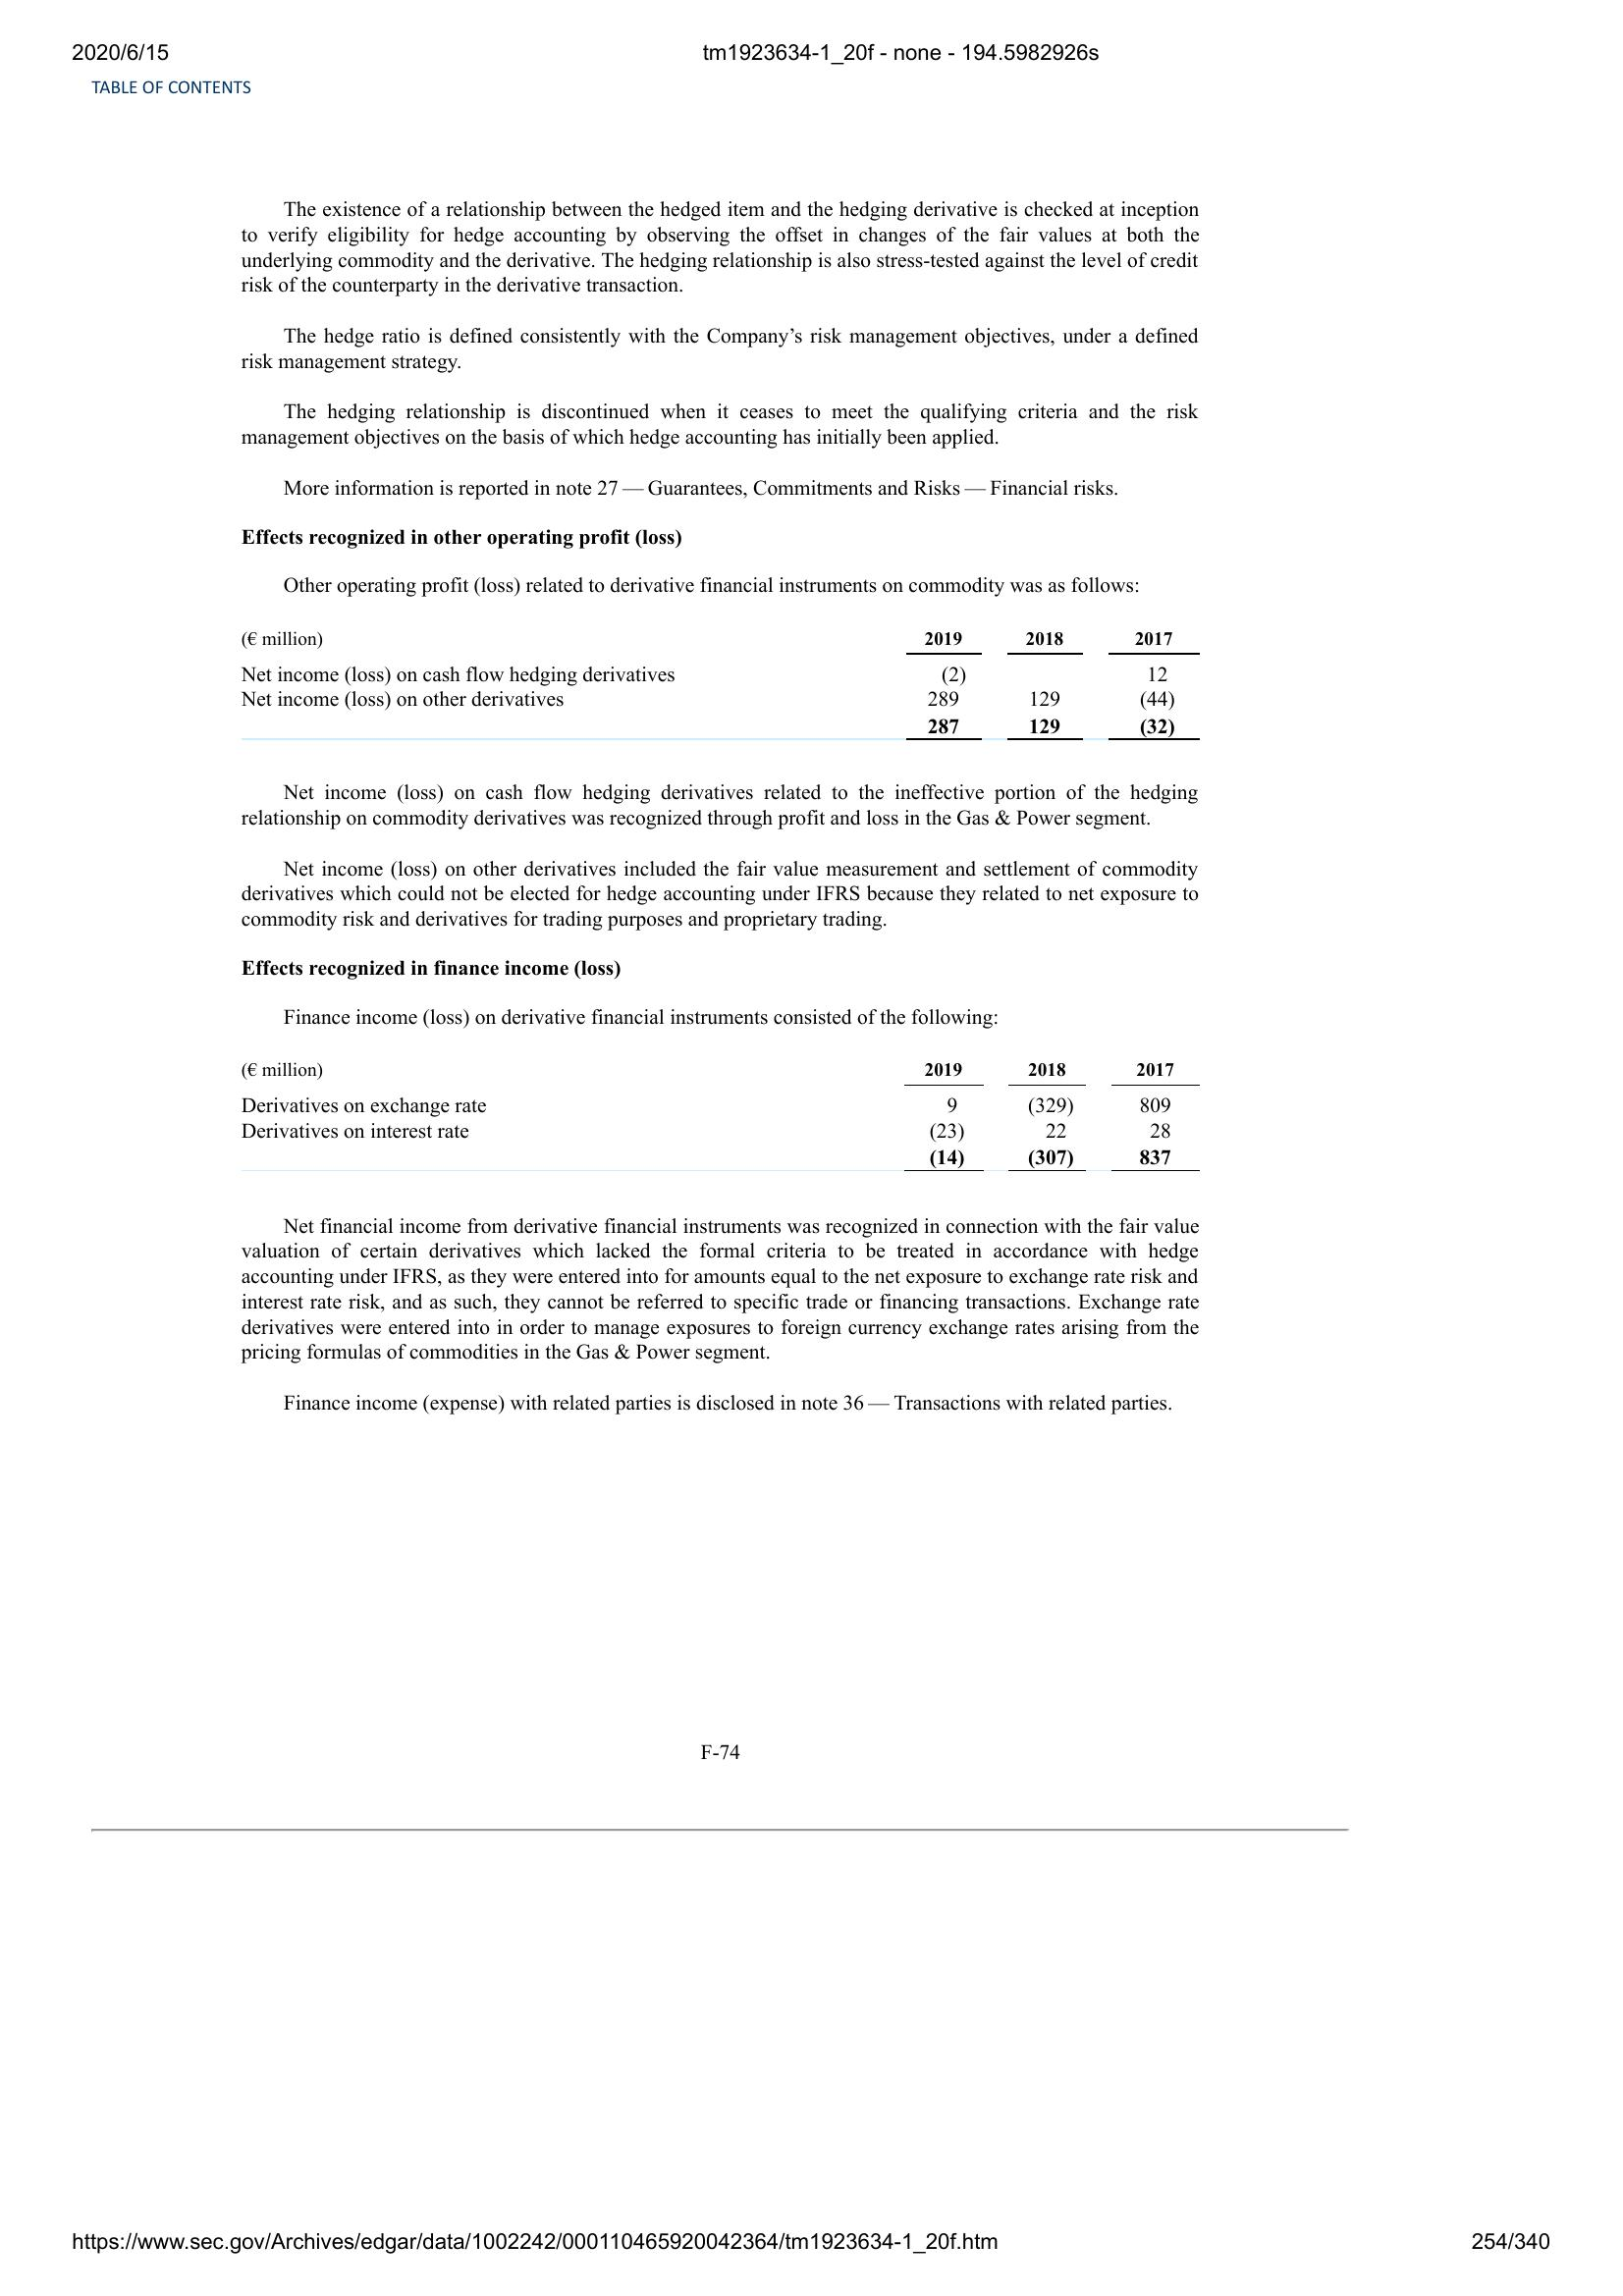table: (230, 618, 1203, 750), (232, 1050, 1205, 1178)
